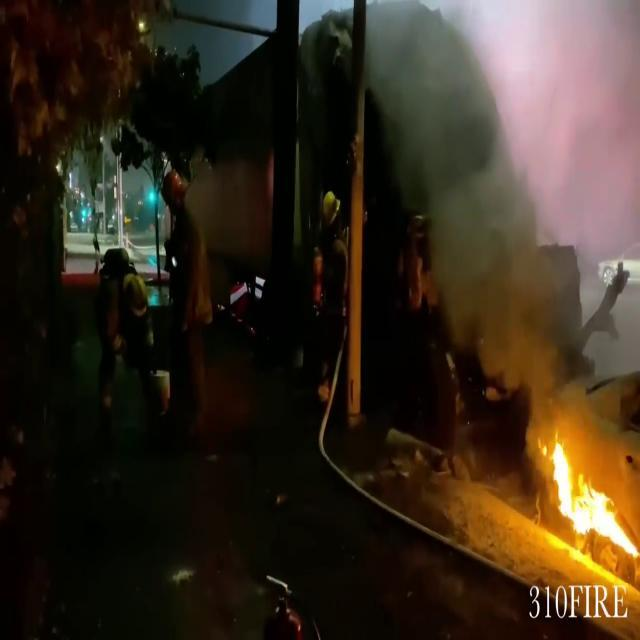Fire: (544, 431, 640, 567)
Smoke: (374, 3, 619, 421)
